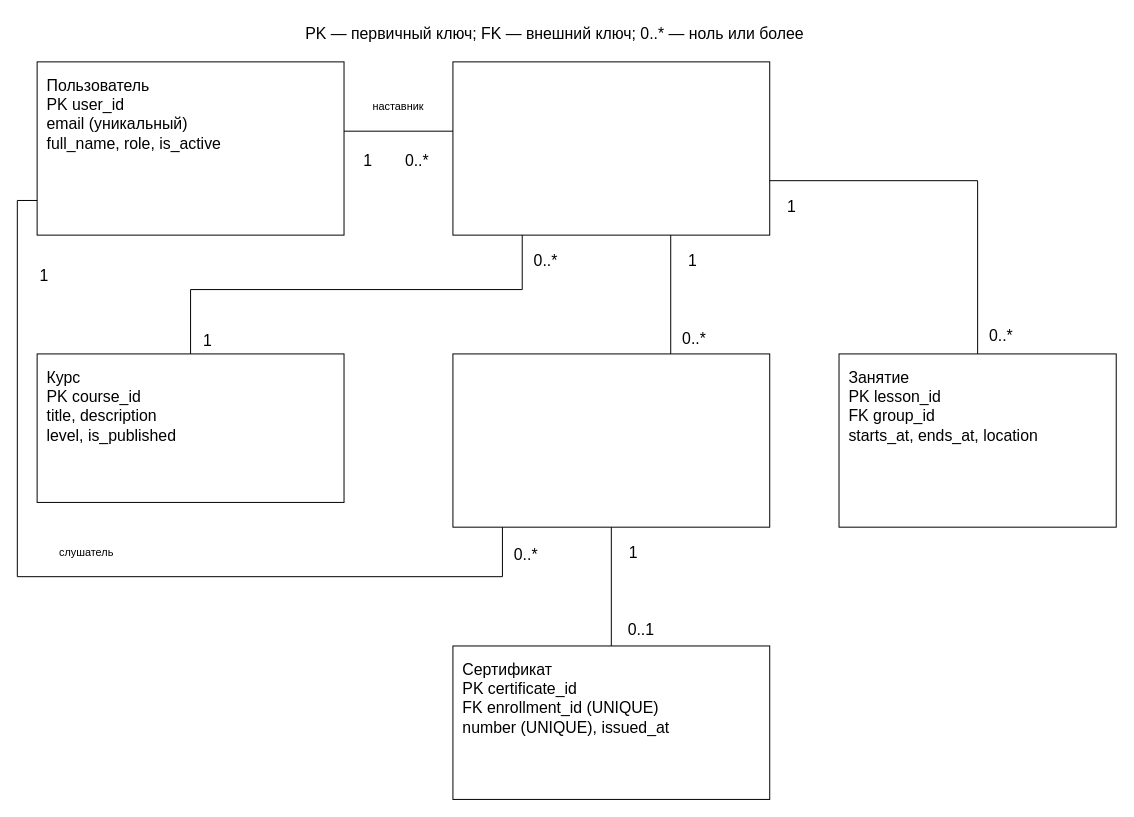
This 1134x817 diagram has some shape labels left out. Each missing label, with the centre of its shape:
Зачисление PK enrollment_id FK student_id, group_id status, applied_at: point 611,440
Учебная группа PK group_id FK course_id, mentor_id starts_at, capacity, status: point 611,148
